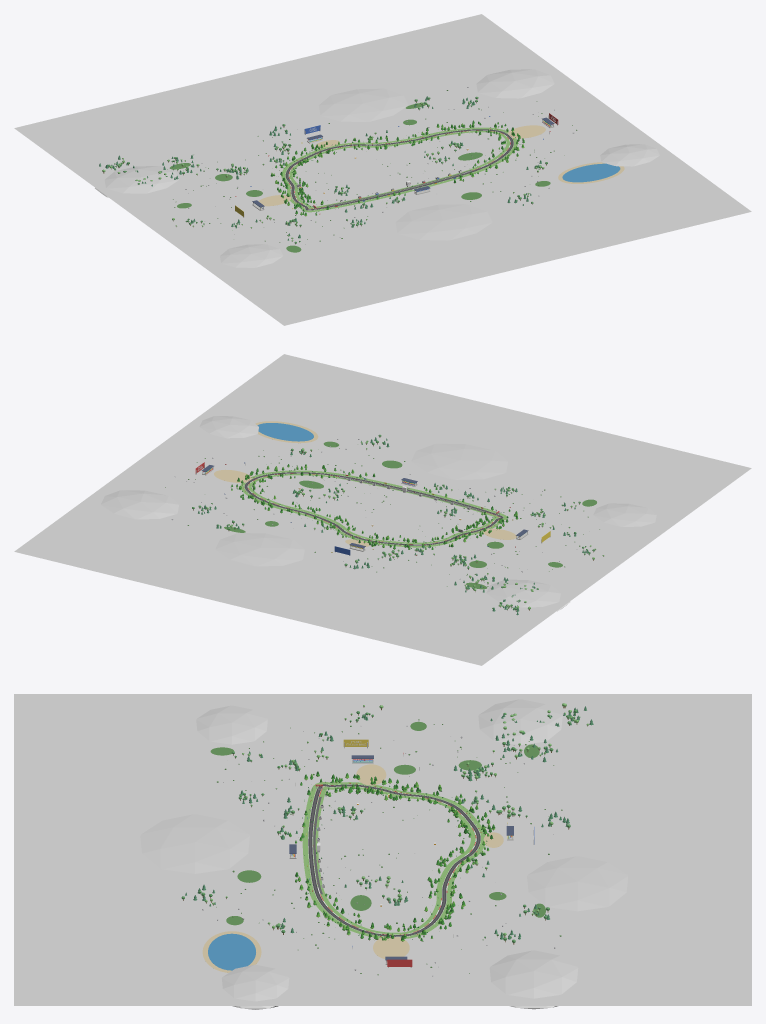
The model's file is GrandPrix_original.glb.
The picture shows the model from 3 angles, top to bottom: view 1: azimuth 30°, elevation 25°; view 2: azimuth 150°, elevation 25°; view 3: azimuth 270°, elevation 25°; orthographic projection. The views are drawn at different scales.
Parts seen in each view (by area): view 1: GroundGrass, Hill.005, Hill.004, Hill.003, Hill, Verge_R, Hill.002, Verge_L, Hill.001, Road, Lake, RacingLine; view 2: GroundGrass, Hill.005, Hill.004, Hill.003, Hill, Verge_R, Hill.002, Verge_L, Road, Hill.001, Lake, RacingLine; view 3: GroundGrass, Hill.005, Hill.004, Hill.003, Hill, Hill.002, Hill.001, Verge_R, Verge_L, Road, Lake, RacingLine (+2 smaller).
Boxes of the visible parts, bbox=[...] form: GroundGrass: bbox=[14, 14, 751, 325]; Hill.005: bbox=[395, 204, 492, 240]; Hill.004: bbox=[318, 88, 407, 121]; Hill.003: bbox=[476, 69, 554, 98]; Hill: bbox=[95, 166, 178, 197]; Verge_R: bbox=[281, 127, 517, 212]; Hill.002: bbox=[220, 244, 282, 267]; Verge_L: bbox=[289, 130, 509, 208]; Hill.001: bbox=[600, 144, 659, 166]; Road: bbox=[285, 129, 513, 210]; Lake: bbox=[562, 163, 620, 182]; RacingLine: bbox=[286, 129, 512, 209]; GroundGrass: bbox=[14, 354, 751, 665]; Hill.005: bbox=[411, 443, 507, 479]; Hill.004: bbox=[215, 533, 304, 566]; Hill.003: bbox=[101, 490, 178, 519]; Hill: bbox=[486, 579, 570, 611]; Verge_R: bbox=[240, 470, 507, 547]; Hill.002: bbox=[593, 503, 656, 526]; Verge_L: bbox=[248, 473, 499, 544]; Road: bbox=[244, 472, 503, 545]; Hill.001: bbox=[199, 416, 258, 438]; Lake: bbox=[257, 423, 313, 441]; RacingLine: bbox=[245, 472, 502, 545]; GroundGrass: bbox=[14, 694, 751, 1005]; Hill.005: bbox=[140, 814, 249, 873]; Hill.004: bbox=[527, 856, 627, 911]; Hill.003: bbox=[489, 950, 578, 1009]; Hill: bbox=[478, 699, 562, 744]; Hill.002: bbox=[196, 705, 267, 744]; Hill.001: bbox=[221, 964, 289, 1009]; Verge_R: bbox=[302, 782, 485, 938]; Verge_L: bbox=[312, 786, 475, 934]; Road: bbox=[308, 784, 480, 936]; Lake: bbox=[208, 933, 255, 970]; RacingLine: bbox=[309, 785, 479, 936].
Size of the model in its own units: 2200 by 70.4 by 2200.
